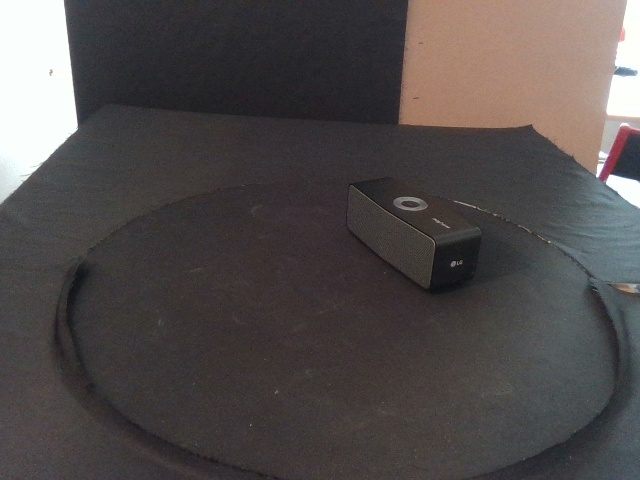speaker: (345, 176, 482, 294)
